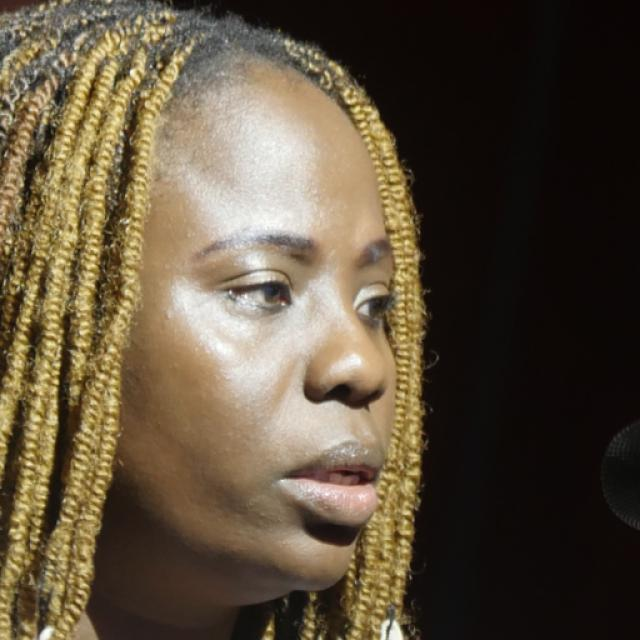sad: (135, 67, 414, 584)
